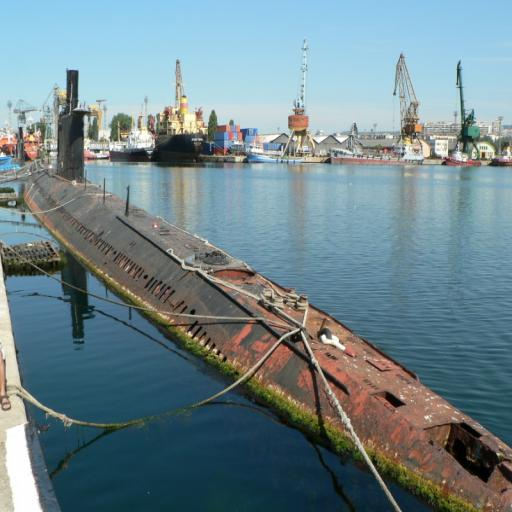submarine: (8, 62, 511, 512)
